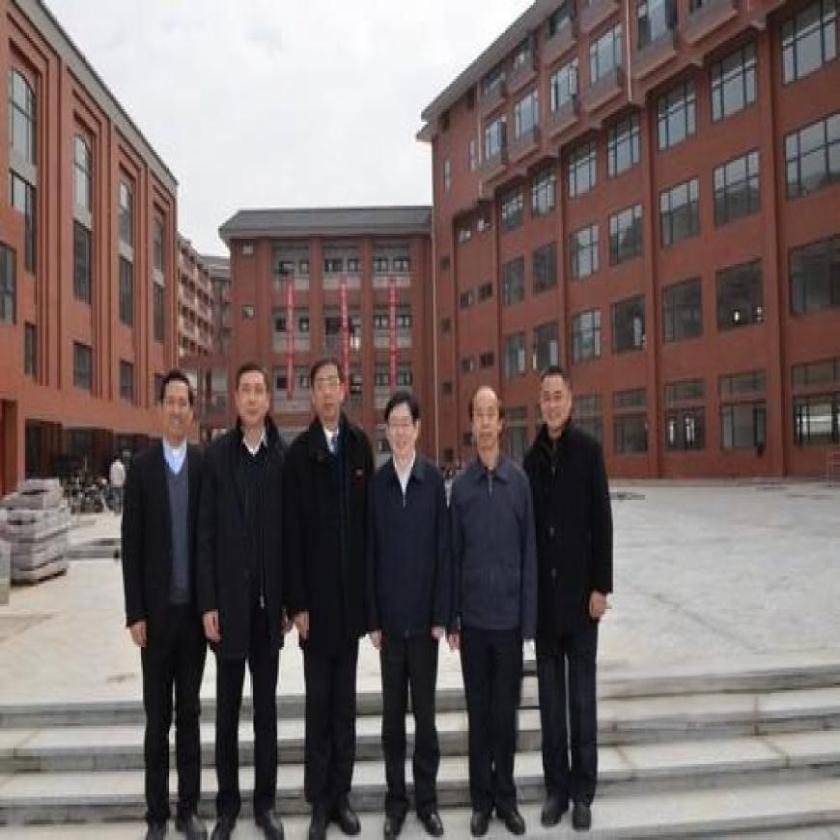Sin_casco: (154, 351, 200, 451), (380, 383, 426, 473), (468, 382, 508, 462), (309, 349, 350, 424), (531, 363, 581, 422), (229, 362, 276, 424)
